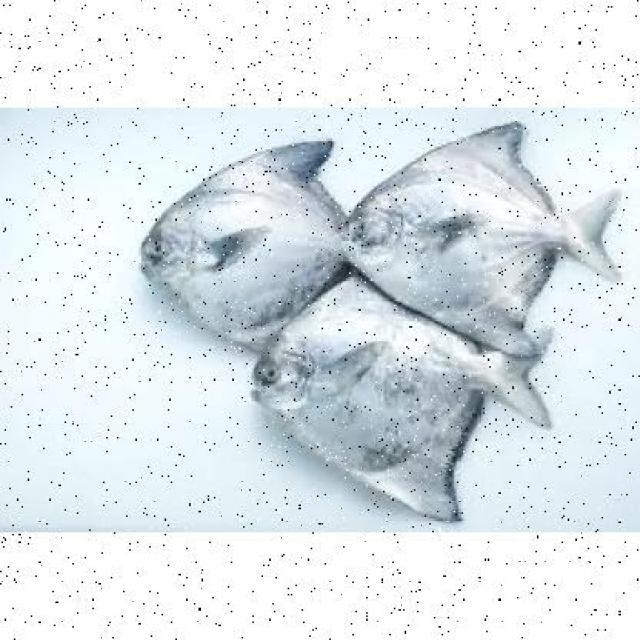ikan-pacu: (250, 311, 512, 492), (364, 118, 598, 319), (140, 139, 346, 335)
